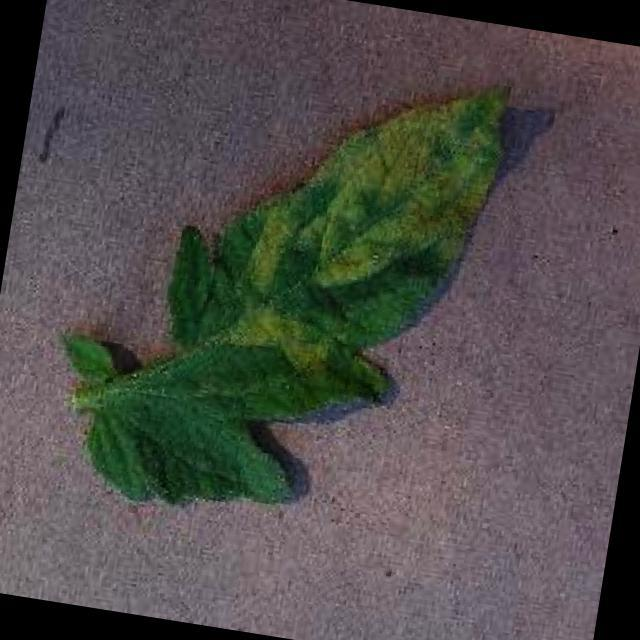Tomato mold leaf: (73, 18, 521, 556)
